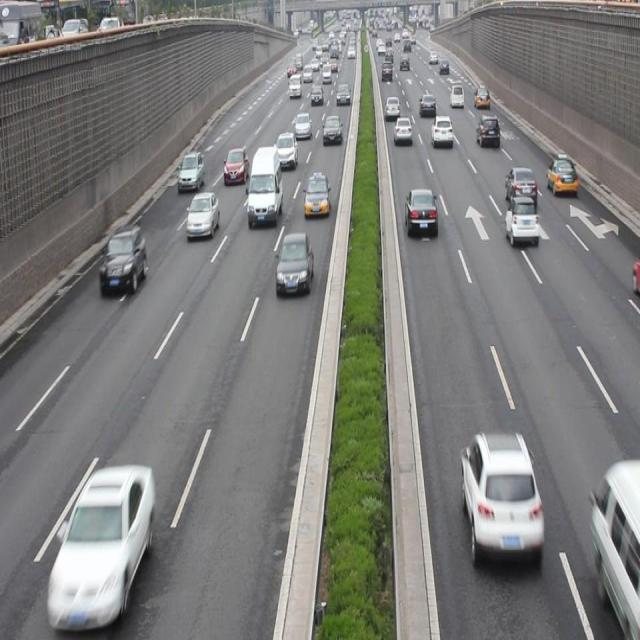car: (48, 464, 154, 625), (460, 430, 541, 560), (100, 222, 146, 291), (274, 233, 314, 297), (403, 184, 437, 239), (504, 196, 537, 244), (187, 192, 218, 238), (504, 166, 538, 204), (302, 170, 330, 216), (545, 154, 576, 193), (178, 150, 204, 191), (223, 145, 247, 181), (274, 132, 298, 168), (476, 114, 501, 148), (432, 114, 453, 146), (394, 115, 414, 146), (322, 114, 342, 144), (293, 111, 312, 139)
truck: (588, 456, 640, 639), (247, 145, 280, 225)
